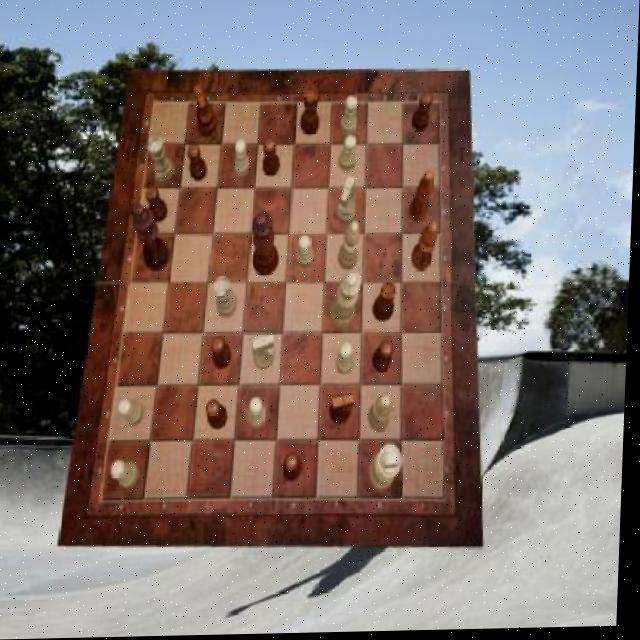bishop: (413, 223, 441, 274), (410, 172, 435, 225)
black-bishop: (130, 203, 173, 273)
black-king: (193, 87, 219, 140), (334, 395, 359, 426)
black-knight: (147, 186, 171, 223), (189, 144, 210, 182), (413, 96, 434, 134), (209, 400, 232, 432), (215, 337, 236, 372), (375, 344, 397, 377), (264, 140, 282, 178), (286, 455, 306, 483)
black-pawn: (252, 213, 283, 278)
black-queen: (300, 88, 321, 136), (375, 284, 399, 324)
black-rook: (339, 223, 362, 272), (372, 396, 396, 434)
white-bishop: (371, 445, 407, 493)
white-king: (338, 178, 359, 226), (254, 334, 278, 372)
white-knight: (115, 462, 143, 490), (121, 400, 148, 428), (342, 98, 360, 138), (235, 140, 253, 178), (250, 398, 270, 431), (341, 137, 359, 173), (340, 343, 358, 377), (298, 236, 316, 270)
white-pawn: (332, 272, 364, 333)
white-queen: (149, 137, 176, 183), (215, 277, 240, 320)
